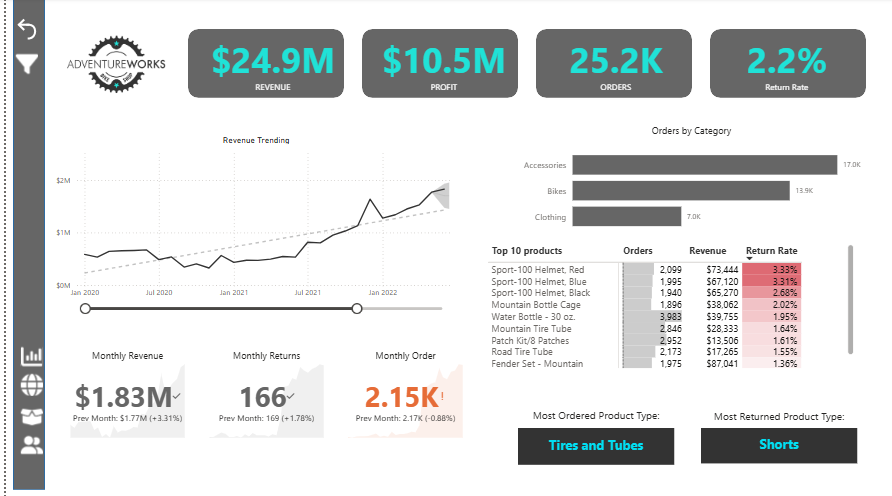

Layout of this report page (visuals, bound fields, positions):
{"tool":"powerbi","page":{"name":"Exec Dashboard","canvas":[1280,720],"ordinal":0},"visuals":[{"type":"card","fields":{"Values":["Measure Table.Total Profit"]},"box":[530.1,20.9,201.5,146.3],"z":0,"group":"g2"},{"type":"image","title":"AW Logo","box":[67.7,23,182.9,144],"z":0},{"type":"group","id":"g1","title":"KPI Backgrounds","box":[262.1,44.6,976.3,99.4],"z":0,"group":"g3"},{"type":"shape","box":[763.2,44.6,224.6,99.4],"z":0,"group":"g1"},{"type":"actionButton","box":[17.8,583.2,46.1,40.3],"z":0,"group":"g4"},{"type":"shape","title":"Left Nav Background","box":[10.1,0,46.1,708.5],"z":1000},{"type":"group","id":"g2","title":"KPI Values","box":[283.2,20.9,942.2,146.3],"z":1000,"group":"g3"},{"type":"card","fields":{"Values":["Measure Table.Total Revenue"]},"box":[283.2,20.9,201.5,146.3],"z":1000,"group":"g2"},{"type":"shape","box":[512.7,44.6,224.6,99.4],"z":1000,"group":"g1"},{"type":"actionButton","box":[17.3,623.5,46.1,40.3],"z":1000,"group":"g4"},{"type":"group","id":"g3","title":"KPI","box":[262.1,20.9,976.3,146.3],"z":2000},{"type":"card","fields":{"Values":["Measure Table.Total Orders"]},"box":[777,20.9,201.5,146.3],"z":2000,"group":"g2"},{"type":"shape","box":[262.1,44.6,224.6,99.4],"z":2000,"group":"g1"},{"type":"actionButton","box":[17.8,537.1,46.1,40.3],"z":2000,"group":"g4"},{"type":"card","fields":{"Values":["Measure Table.Return Rate"]},"box":[1023.9,20.9,201.5,146.3],"z":3000,"group":"g2"},{"type":"shape","box":[1013.8,44.6,224.6,99.4],"z":3000,"group":"g1"},{"type":"lineChart","title":" Revenue Trending","fields":{"Y":["Measure Table.Total Revenue"],"Category":["Calendar Lookup.Year","Calendar Lookup.Start of Quarter","Calendar Lookup.Start of Month"]},"box":[65.7,197,588.1,261.2],"z":3000},{"type":"actionButton","box":[17.9,497,46.5,39.3],"z":3000,"group":"g4"},{"type":"kpi","title":"Monthly Revenue","fields":{"Indicator":["Measure Table.Total Revenue"],"TrendLine":["Calendar Lookup.Start of Month"],"Goal":["Measure Table.Previous Month Revenue"]},"box":[88.1,506,174.6,132.8],"z":4000},{"type":"kpi","title":"Monthly Returns","fields":{"Indicator":["Measure Table.Total Returns"],"TrendLine":["Calendar Lookup.Start of Month"],"Goal":["Measure Table.Previous Month Returns"]},"box":[288.1,506,174.6,132.8],"z":5000},{"type":"kpi","title":"Monthly Order","fields":{"TrendLine":["Calendar Lookup.Start of Month"],"Indicator":["Measure Table.Total Orders"],"Goal":["Measure Table.Previous Month Orders"]},"box":[488.1,506,174.6,132.8],"z":6000},{"type":"barChart","title":"Orders by Category","fields":{"Category":["Product Categories Lookup.CategoryName"],"Y":["Measure Table.Total Orders"]},"box":[735.8,181.4,502.6,168.5],"z":7000},{"type":"pivotTable","fields":{"Rows":["Product Lookup.ProductName"],"Values":["Measure Table.Total Orders","Measure Table.Total Revenue","Measure Table.Return Rate"]},"box":[690,349.4,535.5,187.9],"z":8000},{"type":"card","fields":{"Values":["Min(Product Subcategories Lookup.SubcategoryName)"]},"box":[737.4,619.8,224.7,52.7],"z":9000},{"type":"textbox","box":[737.4,584.7,224.7,33.4],"z":10000},{"type":"card","fields":{"Values":["Min(Product Subcategories Lookup.SubcategoryName)"]},"box":[1000.8,619.8,224.7,50.9],"z":11000},{"type":"textbox","box":[1000.3,585.9,224.7,33.4],"z":12000},{"type":"actionButton","box":[10.1,24.5,46.1,40.3],"z":13000},{"type":"group","id":"g4","title":"Navigation Buttons","box":[17.3,497,47.1,166.9],"z":14000},{"type":"actionButton","box":[10.1,74.9,46.1,40.3],"z":15000}]}

Visuals, with their boxes on the page's 1280x720 design canvas (x1, y1, x2, y2). These are canvas units, not pixel positions in the 892x496 screenshot, which may show the page scaled, cropped or inside an application window:
card - Measure Table.Total Profit: l=530, t=21, r=732, b=167
"AW Logo" image: l=68, t=23, r=251, b=167
"KPI Backgrounds" group: l=262, t=45, r=1238, b=144
shape: l=763, t=45, r=988, b=144
actionButton: l=18, t=583, r=64, b=624
"Left Nav Background" shape: l=10, t=0, r=56, b=708
"KPI Values" group: l=283, t=21, r=1225, b=167
card - Measure Table.Total Revenue: l=283, t=21, r=485, b=167
shape: l=513, t=45, r=737, b=144
actionButton: l=17, t=624, r=63, b=664
"KPI" group: l=262, t=21, r=1238, b=167
card - Measure Table.Total Orders: l=777, t=21, r=978, b=167
shape: l=262, t=45, r=487, b=144
actionButton: l=18, t=537, r=64, b=577
card - Measure Table.Return Rate: l=1024, t=21, r=1225, b=167
shape: l=1014, t=45, r=1238, b=144
" Revenue Trending" lineChart: l=66, t=197, r=654, b=458
actionButton: l=18, t=497, r=64, b=536
"Monthly Revenue" kpi: l=88, t=506, r=263, b=639
"Monthly Returns" kpi: l=288, t=506, r=463, b=639
"Monthly Order" kpi: l=488, t=506, r=663, b=639
"Orders by Category" barChart: l=736, t=181, r=1238, b=350
pivotTable - Product Lookup.ProductName x Measure Table.Total Orders: l=690, t=349, r=1226, b=537
card - Min(Product Subcategories Lookup.SubcategoryName): l=737, t=620, r=962, b=672
textbox: l=737, t=585, r=962, b=618
card - Min(Product Subcategories Lookup.SubcategoryName): l=1001, t=620, r=1226, b=671
textbox: l=1000, t=586, r=1225, b=619
actionButton: l=10, t=24, r=56, b=65
"Navigation Buttons" group: l=17, t=497, r=64, b=664
actionButton: l=10, t=75, r=56, b=115
